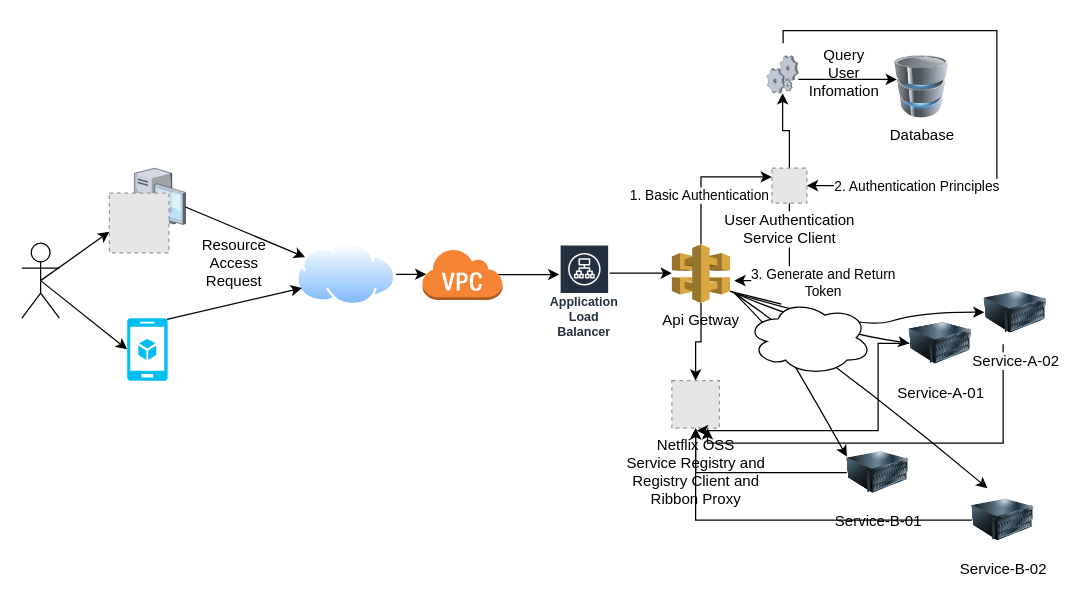
The diagram is 1080 pixels wide and 600 high, and some of its shapes have lost their labels. Grey dashed boxes stand in for pictures. Each missing label, with the centre of its shape:
"Internet" belongs at point (346, 273).
"Route Request With Token" belongs at point (809, 337).
"User" belongs at point (40, 280).
"User Authentication Server" belongs at point (782, 73).
